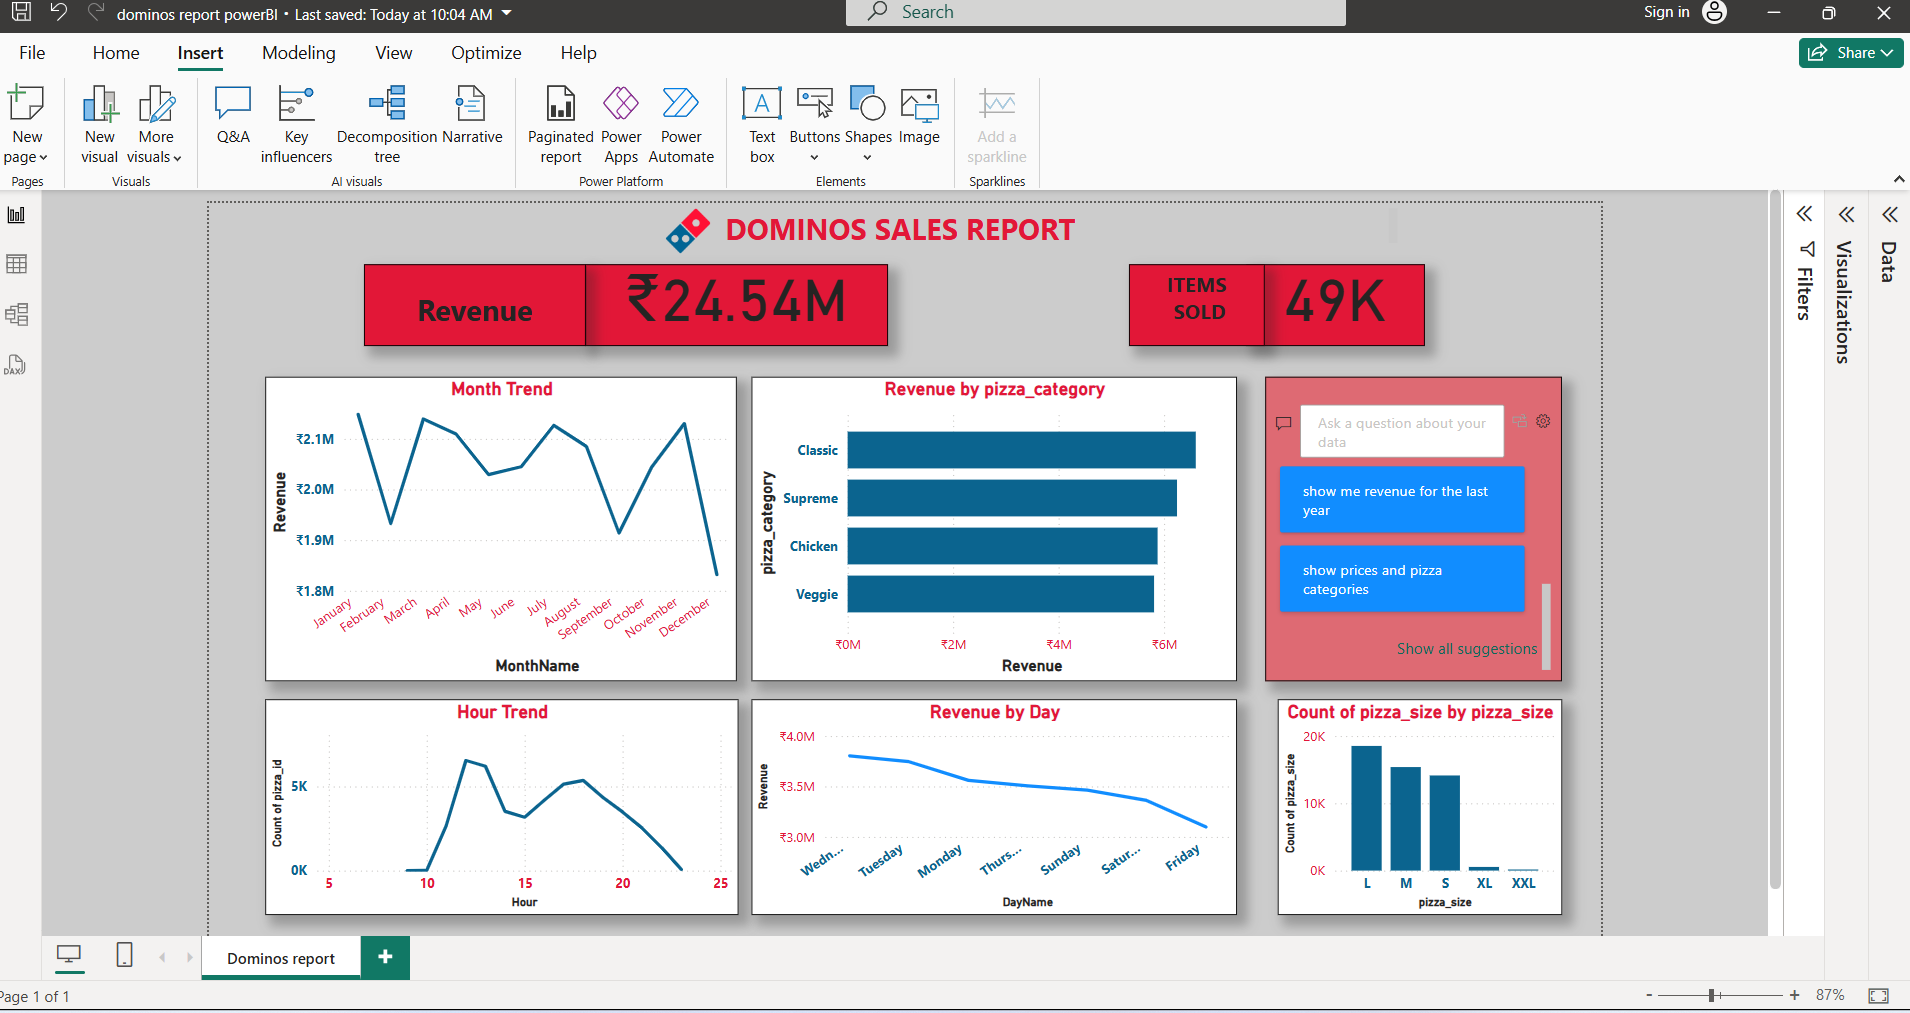

Layout of this report page (visuals, bound fields, positions):
{"tool":"powerbi","page":{"name":"Dominos report","canvas":[1280,720],"ordinal":0},"visuals":[{"type":"card","fields":{"Values":["Dataset.Revenue"]},"box":[346.2,56.2,278.8,75],"z":1000},{"type":"lineChart","title":"Month Trend","fields":{"Category":["Dataset.MonthName"],"Y":["Dataset.Revenue"]},"box":[51.2,160,433.8,280],"z":2000},{"type":"textbox","box":[181.2,0,916.2,43.8],"z":4000},{"type":"clusteredBarChart","fields":{"Category":["Dataset.pizza_category"],"Y":["Dataset.Revenue"]},"box":[498.8,160,446.2,280],"z":5000},{"type":"qnaVisual","box":[971.2,160,272.5,280],"z":6000},{"type":"card","fields":{"Values":["Dataset.Total item sold"]},"box":[953.8,56.2,163.8,75],"z":7000},{"type":"textbox","box":[846.2,56.2,125,75],"z":9000},{"type":"textbox","box":[142.5,56.2,203.8,75],"z":10000},{"type":"lineChart","title":"Hour Trend","fields":{"Category":["Dataset.Hour"],"Y":["Count(Dataset.pizza_id)"]},"box":[51.2,456.2,435,198.8],"z":11000},{"type":"lineChart","title":"Revenue by Day","fields":{"Y":["Dataset.Revenue"],"Category":["Dataset.DayName"]},"box":[498.8,456.2,446.2,198.8],"z":12000},{"type":"clusteredColumnChart","fields":{"Category":["Dataset.pizza_size"],"Y":["CountNonNull(Dataset.pizza_size)"]},"box":[982.5,456.2,261.2,198.8],"z":13000},{"type":"image","box":[367.7,0,146.2,51.5],"z":13001}]}

Visuals, with their boxes on the page's 1280x720 design canvas (x1, y1, x2, y2). These are canvas units, not pixel positions in the 1910x1013 screenshot, which may show the page scaled, cropped or inside an application window:
card - Dataset.Revenue: (346,56,625,131)
"Month Trend" lineChart: (51,160,485,440)
textbox: (181,0,1097,44)
clusteredBarChart - Dataset.pizza_category x Dataset.Revenue: (499,160,945,440)
qnaVisual: (971,160,1244,440)
card - Dataset.Total item sold: (954,56,1118,131)
textbox: (846,56,971,131)
textbox: (142,56,346,131)
"Hour Trend" lineChart: (51,456,486,655)
"Revenue by Day" lineChart: (499,456,945,655)
clusteredColumnChart - Dataset.pizza_size x CountNonNull(Dataset.pizza_size): (982,456,1244,655)
image: (368,0,514,52)
